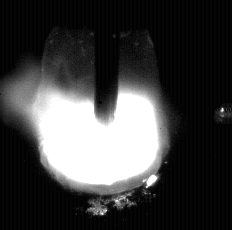arame: (95, 0, 119, 126)
